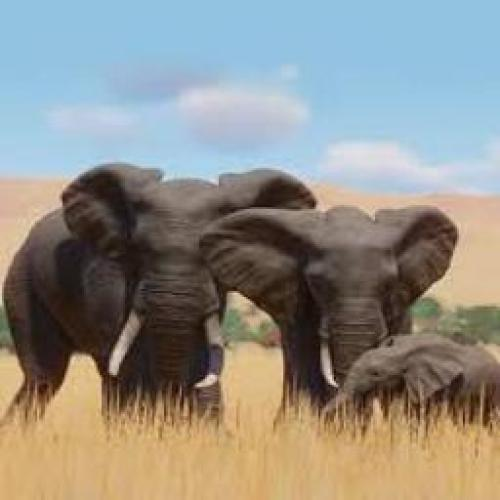african_elephant-endangered: (3, 164, 312, 440), (205, 197, 449, 418), (337, 333, 497, 440)
